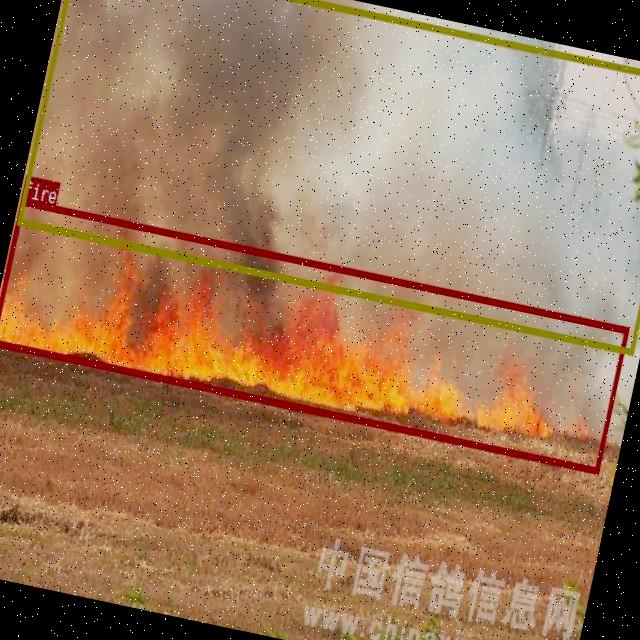fire: (0, 197, 627, 472)
smoke: (15, 0, 640, 353)
